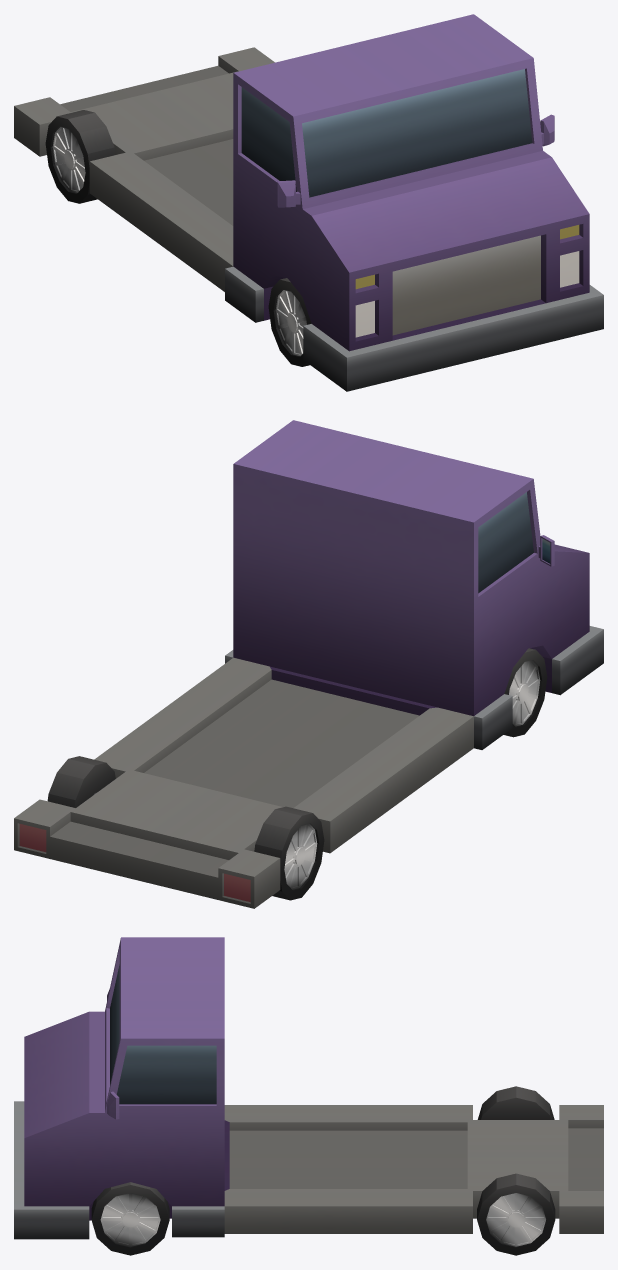
File: Truck_Main_02.fbx
The picture shows the model from 3 angles, top to bottom: view 1: azimuth 30°, elevation 25°; view 2: azimuth 150°, elevation 25°; view 3: azimuth 270°, elevation 25°; orthographic projection. The views are drawn at different scales.
Parts seen in each view (by area): view 1: pCube146; view 2: pCube146; view 3: pCube146.
Boxes of the visible parts, x1,y1,x2,y2 form: pCube146: [14, 14, 603, 391]; pCube146: [14, 420, 603, 908]; pCube146: [14, 937, 603, 1255].
Bounding box in the file's own units: 267 × 233 × 572.
